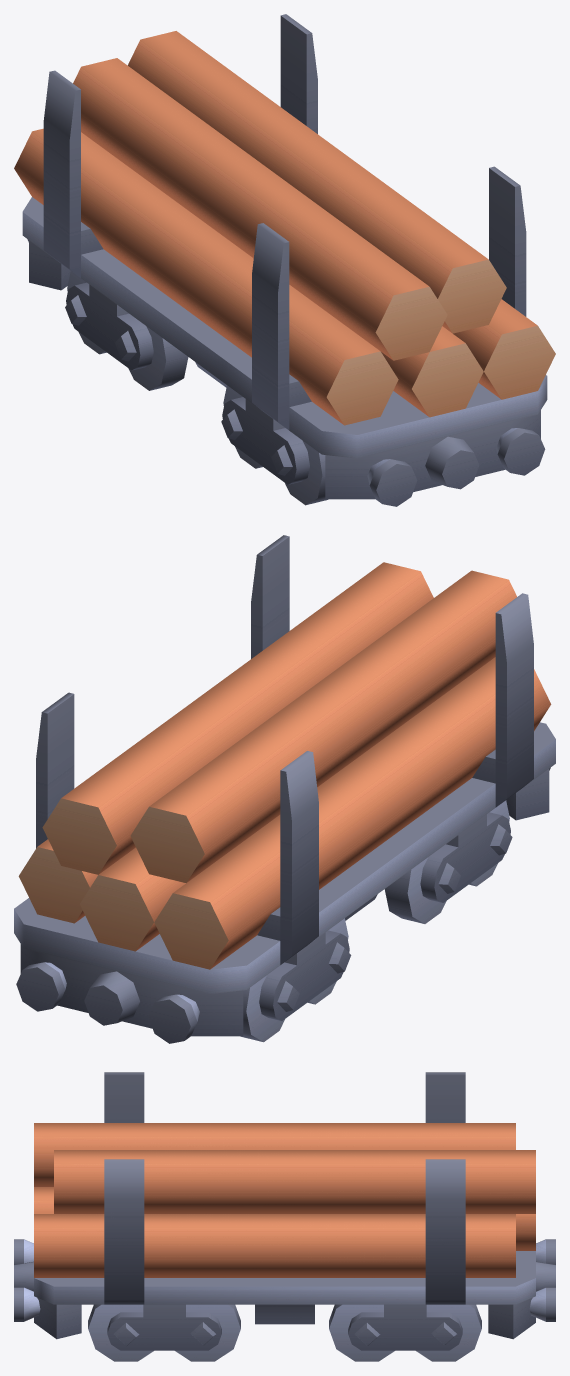
Rendered from wagon_lumber.glb.
The picture shows the model from 3 angles, top to bottom: view 1: azimuth 30°, elevation 25°; view 2: azimuth 150°, elevation 25°; view 3: azimuth 270°, elevation 25°; orthographic projection. The views are drawn at different scales.
Parts seen in each view (by area): view 1: cargo, train-carriage-lumber, wheels-back, wheels-front; view 2: cargo, train-carriage-lumber, wheels-front, wheels-back; view 3: cargo, train-carriage-lumber, wheels-front, wheels-back.
Boxes of the visible parts, <box> form: cargo: <box>14,31,555,425</box>; train-carriage-lumber: <box>22,14,547,506</box>; wheels-back: <box>65,271,188,390</box>; wheels-front: <box>221,385,328,505</box>; cargo: <box>18,562,551,969</box>; train-carriage-lumber: <box>14,535,555,1043</box>; wheels-front: <box>384,800,512,923</box>; wheels-back: <box>240,918,351,1042</box>; cargo: <box>34,1123,535,1277</box>; train-carriage-lumber: <box>14,1072,555,1339</box>; wheels-front: <box>88,1304,240,1361</box>; wheels-back: <box>329,1304,481,1361</box>.
Size of the model in its own units: 1.1 by 1.16 by 2.7.
1 material, 1 textured.
